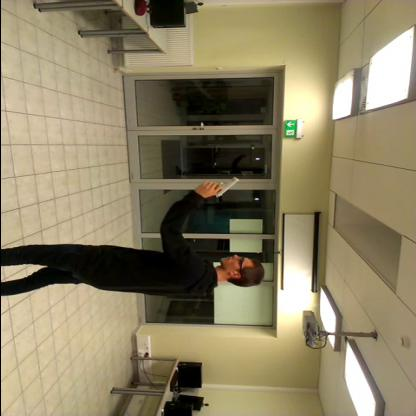Pistol: (189, 169, 247, 201)
